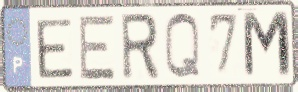7: (207, 12, 242, 81)
E: (33, 16, 76, 80), (78, 13, 117, 83)
M: (240, 9, 294, 82)
Q: (162, 11, 203, 83)
R: (119, 11, 162, 84)
